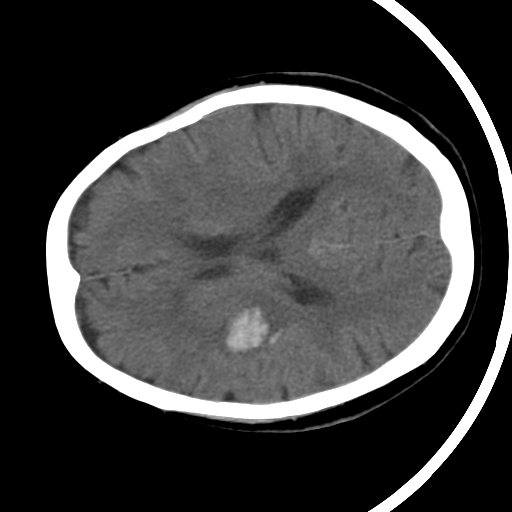a: (207, 283, 304, 368)
